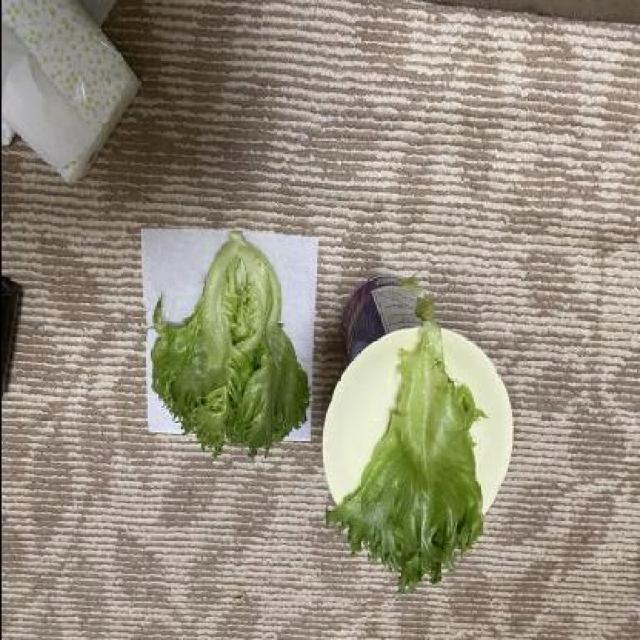Lettuce: (322, 298, 502, 586), (140, 226, 311, 465)
